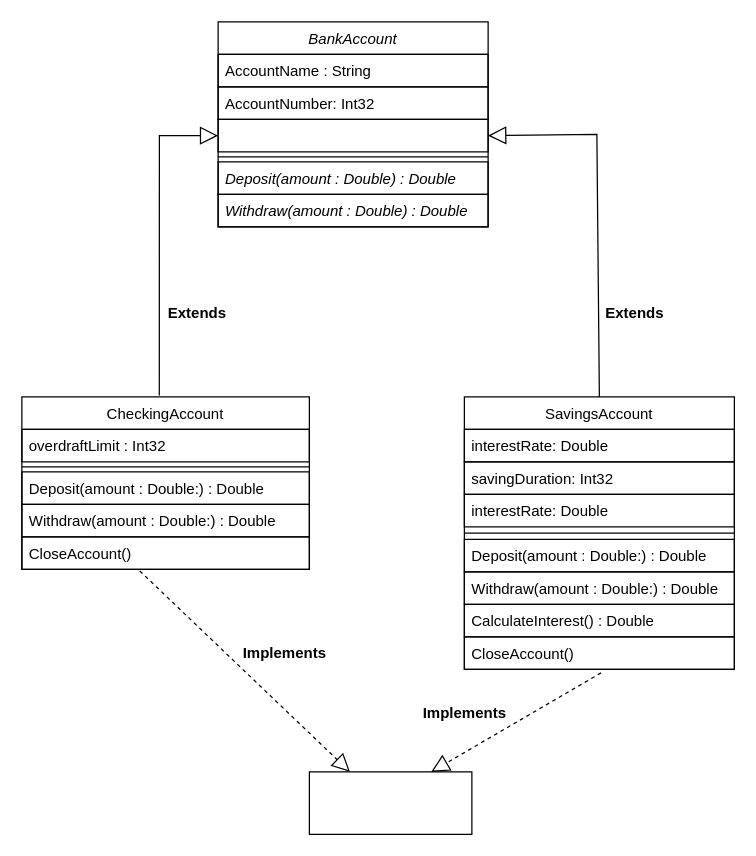
This 756x856 diagram has some shape labels left out. Here are the shapes that lost their labels. From the top down, the centre of each, then its label:
At pixel 352 135: "AccountBalance : Double".
At pixel 390 802: "«interface» IAccountCloseable CloseAccount()".
